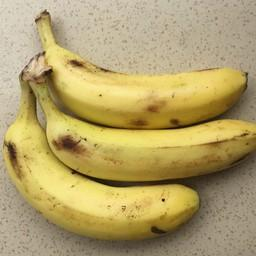Good_banana: (3, 106, 212, 248), (32, 78, 256, 180), (9, 46, 255, 129)
